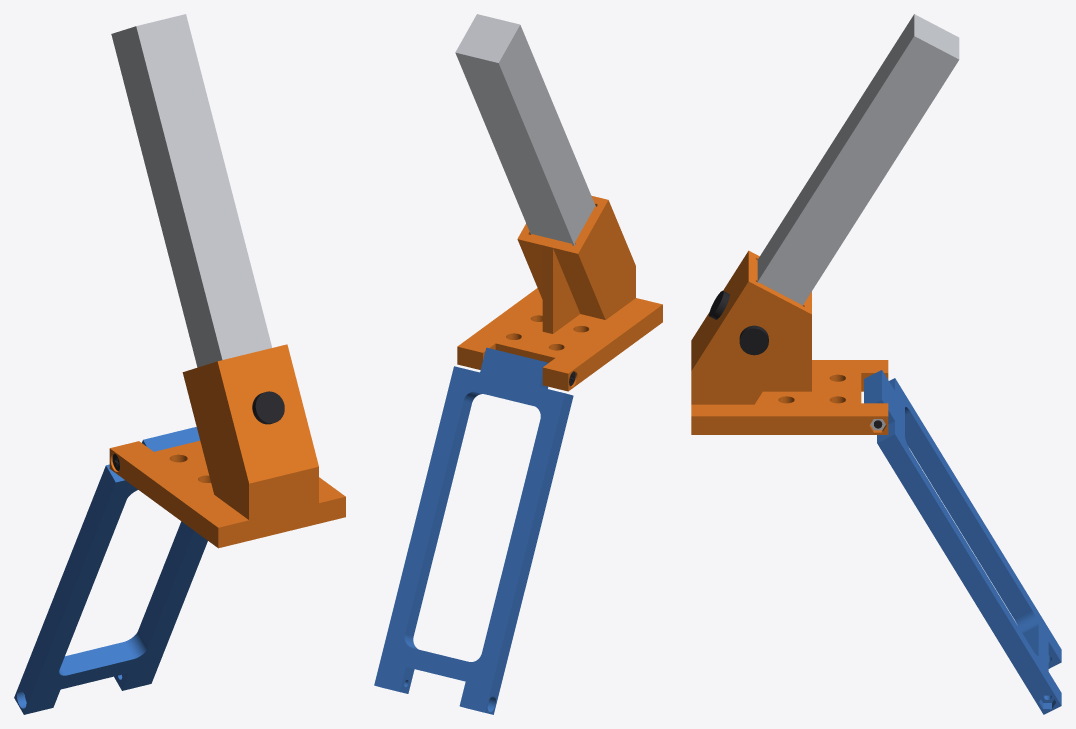
The model's file is carriage_chain.glb.
The picture shows the model from 3 angles, left to right: view 1: azimuth 30°, elevation 25°; view 2: azimuth 150°, elevation 25°; view 3: azimuth 270°, elevation 25°; orthographic projection. The views are drawn at different scales.
Visible parts, largest first — view 1: mast_1010, carriage_plate, link1, clamp_screw_outer; view 2: link1, carriage_plate, mast_1010; view 3: carriage_plate, mast_1010, link1, clamp_screw_pos_x.
Boxes of the visible parts, bbox=[...] form: mast_1010: bbox=[111, 14, 272, 367]; carriage_plate: bbox=[109, 344, 345, 548]; link1: bbox=[14, 427, 207, 714]; clamp_screw_outer: bbox=[252, 391, 284, 424]; link1: bbox=[374, 347, 573, 714]; carriage_plate: bbox=[457, 195, 662, 391]; mast_1010: bbox=[455, 14, 595, 245]; carriage_plate: bbox=[691, 250, 888, 434]; mast_1010: bbox=[757, 14, 959, 305]; link1: bbox=[864, 370, 1061, 714]; clamp_screw_pos_x: bbox=[739, 325, 768, 355].
Size of the model in its own units: 65 by 356 by 180.
